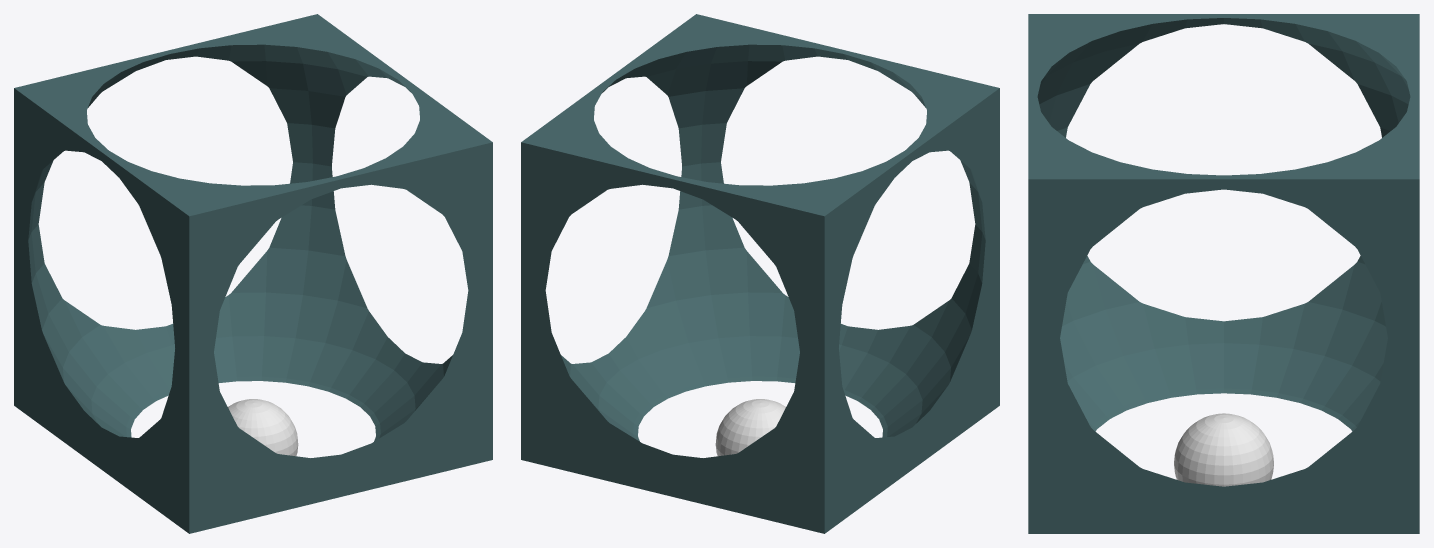
The model's file is menu.fbx.
The picture shows the model from 3 angles, left to right: view 1: azimuth 30°, elevation 25°; view 2: azimuth 150°, elevation 25°; view 3: azimuth 270°, elevation 25°; orthographic projection. The views are drawn at different scales.
Visible parts, largest first — view 1: Cube, Esfera; view 2: Cube, Esfera; view 3: Cube, Esfera.
Part boxes in pixels (<box>): Cube: <box>14,14,492,533</box>; Esfera: <box>228,399,298,456</box>; Cube: <box>521,14,999,533</box>; Esfera: <box>715,399,785,456</box>; Cube: <box>1028,14,1419,533</box>; Esfera: <box>1174,413,1273,486</box>.
Bounding box in the file's own units: 1023 × 1189 × 1023.
